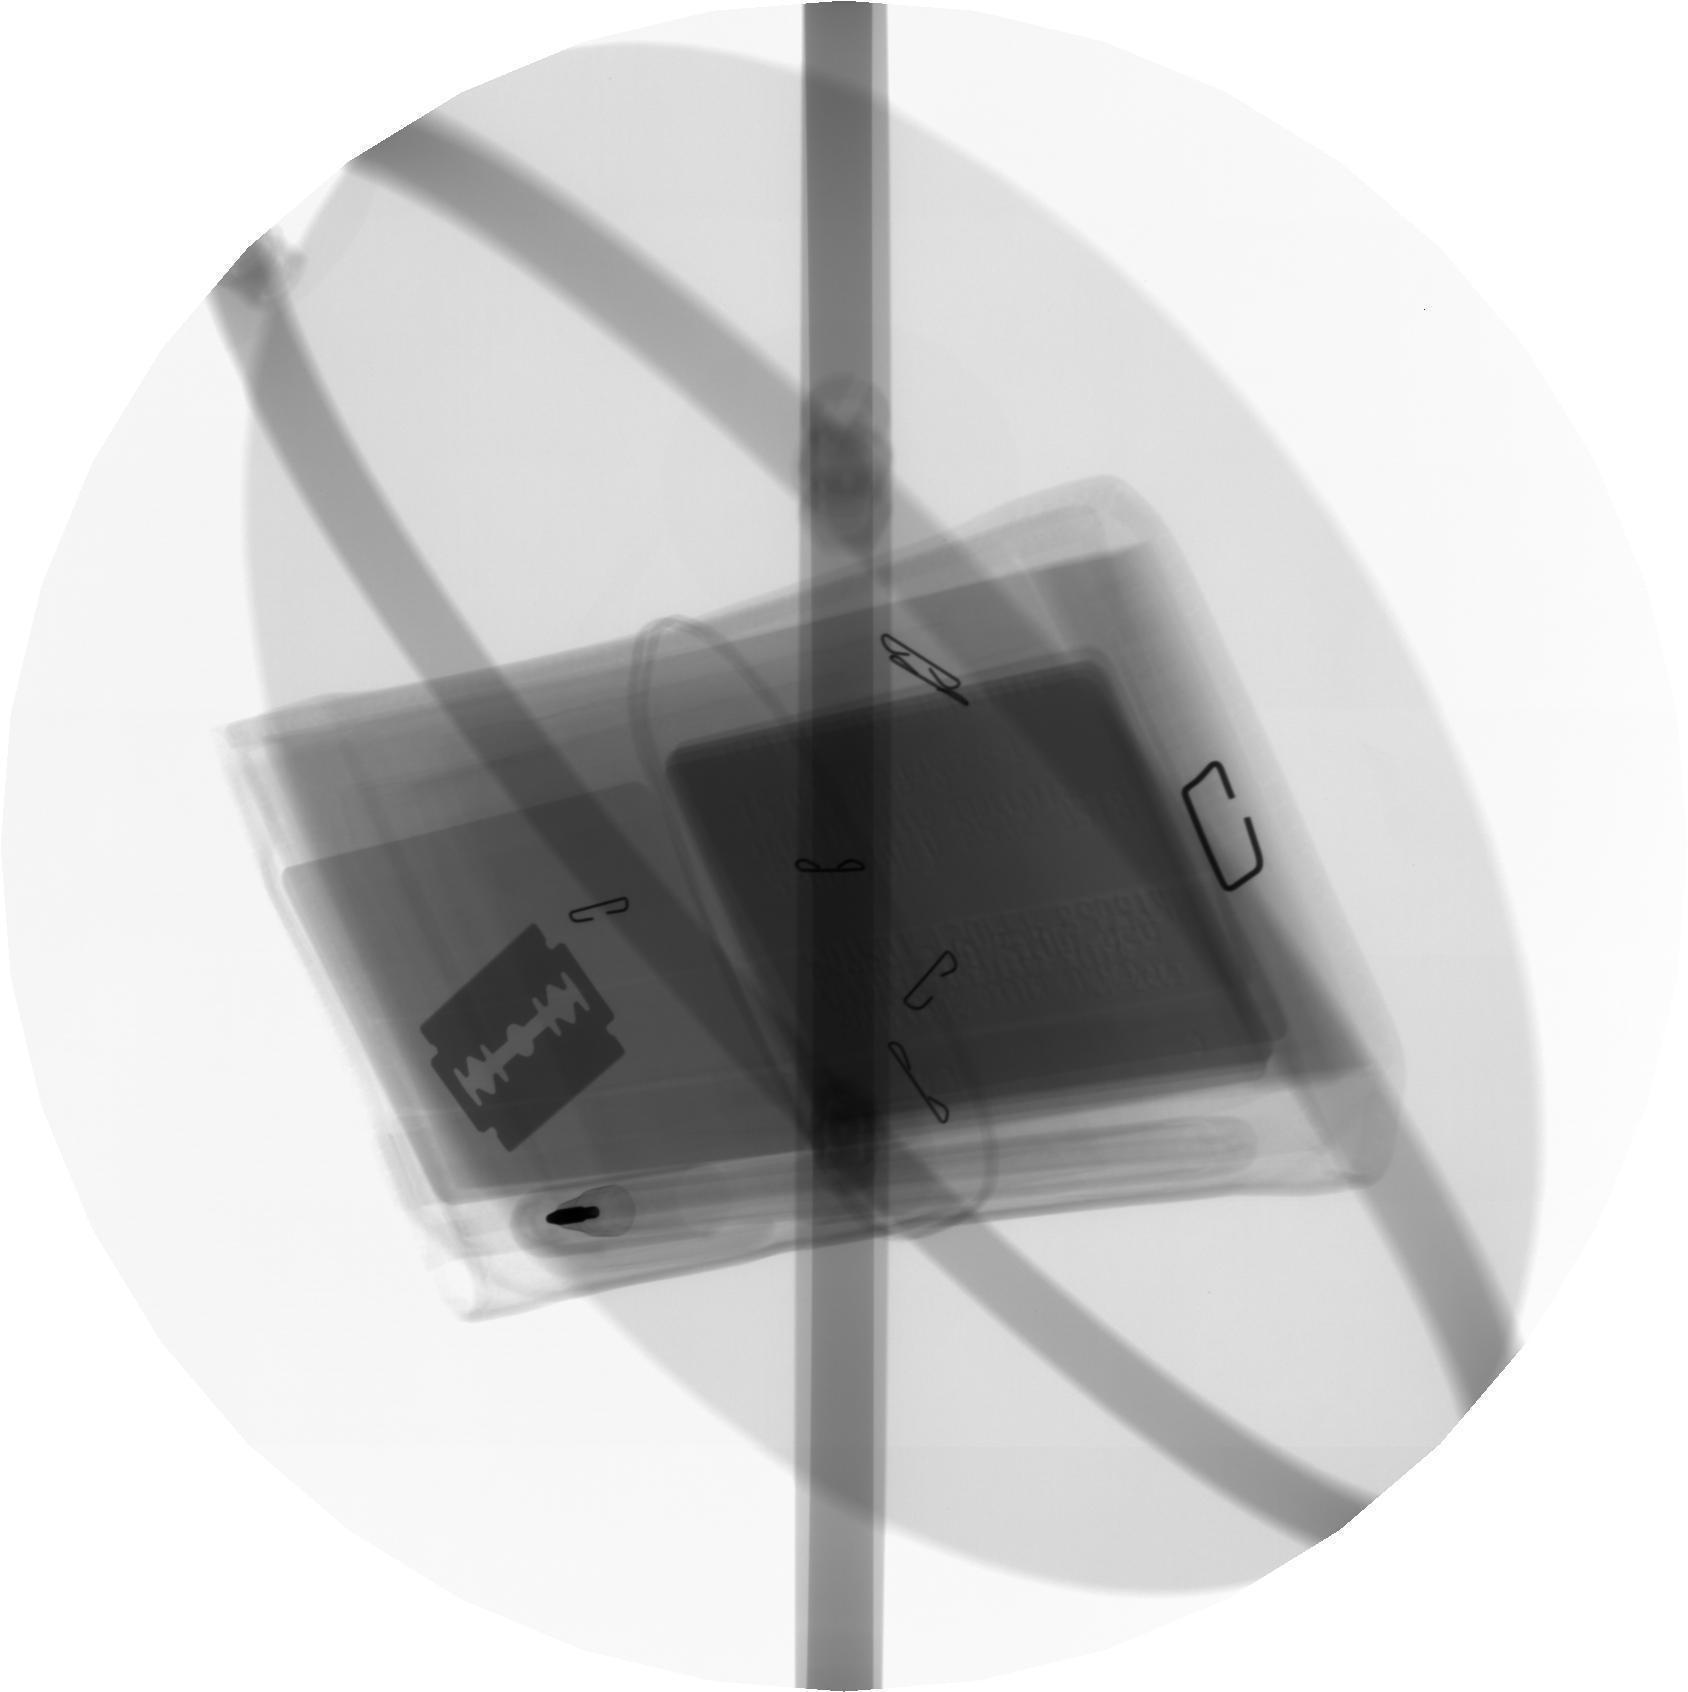RazorBlade: (396, 912, 665, 1174)
